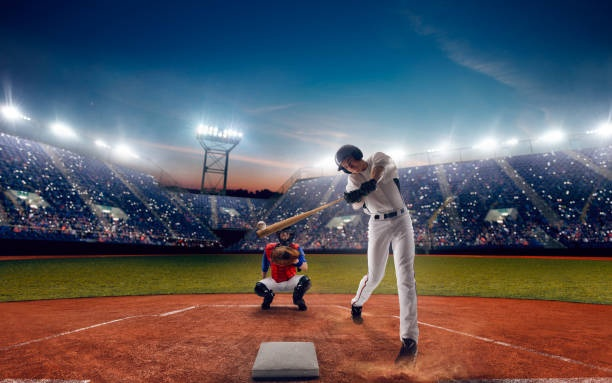bita: (255, 189, 356, 243)
